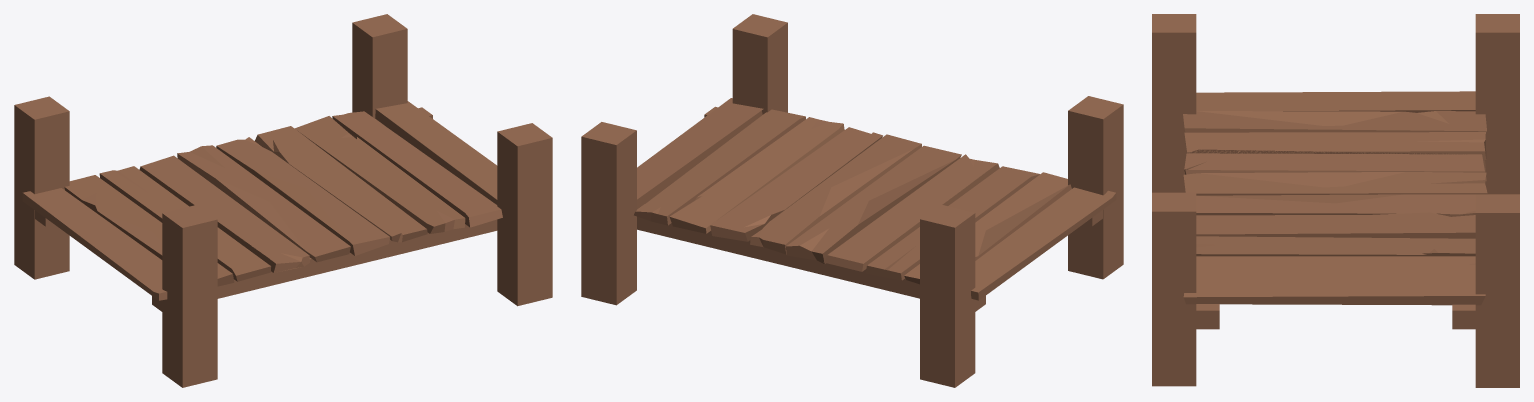
File: tr_pier_v2.fbx
3 renders of one model, left to right at view 1: azimuth 30°, elevation 25°; view 2: azimuth 150°, elevation 25°; view 3: azimuth 270°, elevation 25°, orthographic. The views are drawn at different scales.
Parts seen in each view (by area): view 1: Cube; view 2: Cube; view 3: Cube.
Boxes of the visible parts, x1,y1,x2,y2 form: Cube: [14, 14, 552, 387]; Cube: [581, 14, 1123, 387]; Cube: [1152, 14, 1519, 387].
Bounding box in the file's own units: 1130 × 436 × 830.
